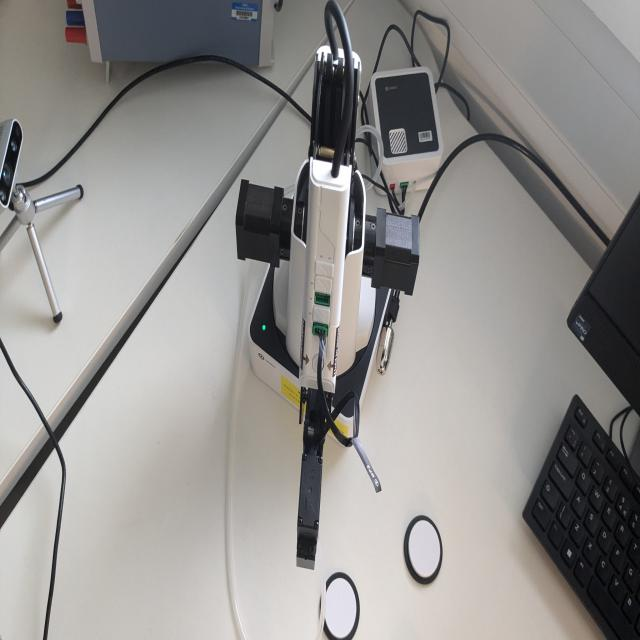Robot-end-effector-HF8z: (293, 448, 325, 572)
